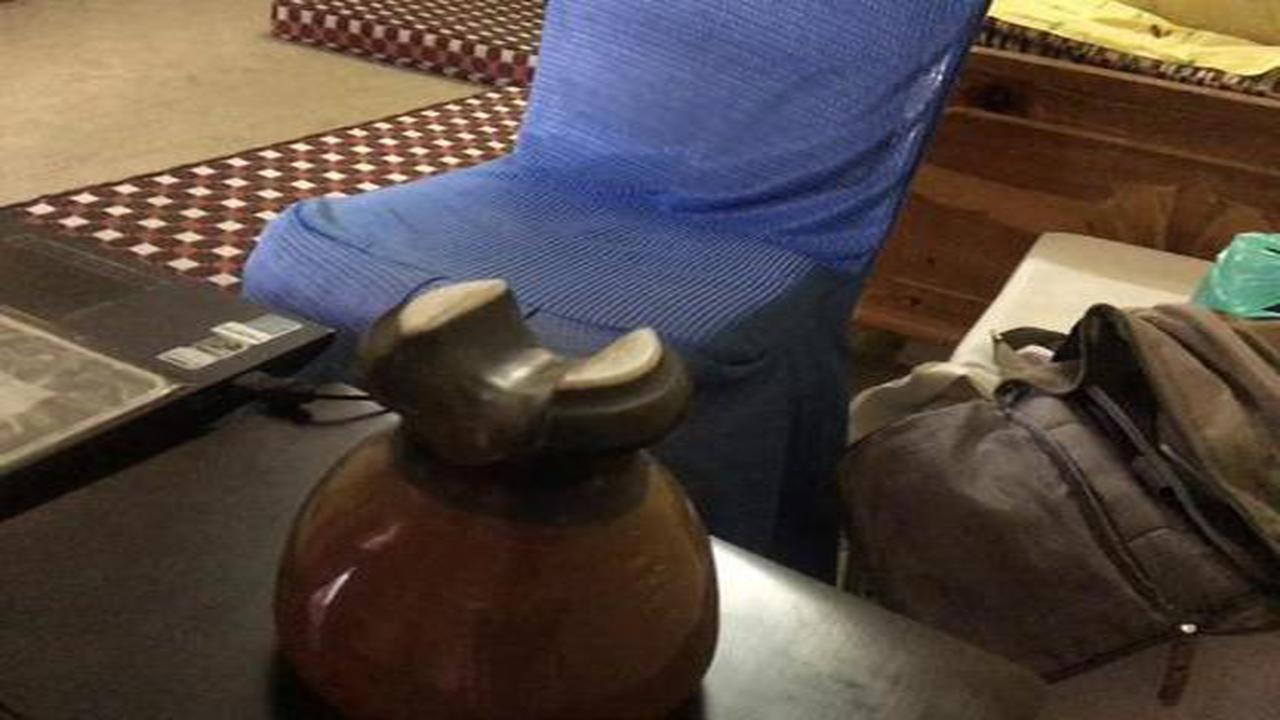insulator_pin: (268, 271, 742, 720)
